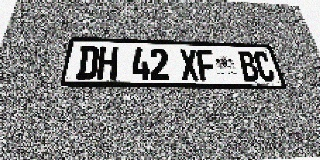2: (150, 48, 169, 80)
4: (132, 47, 150, 80)
B: (237, 51, 261, 82)
C: (252, 51, 277, 82)
D: (76, 46, 99, 80)
F: (196, 50, 217, 81)
H: (97, 46, 118, 80)
X: (179, 49, 200, 81)
